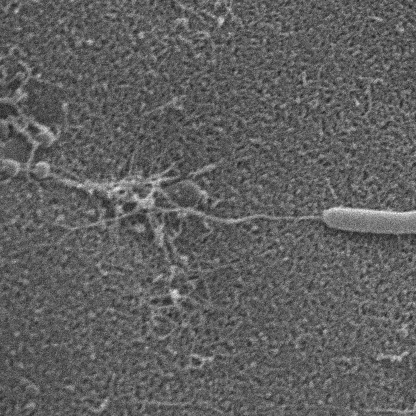cell2surface: (135, 198, 315, 222)
regular: (319, 209, 416, 233)
